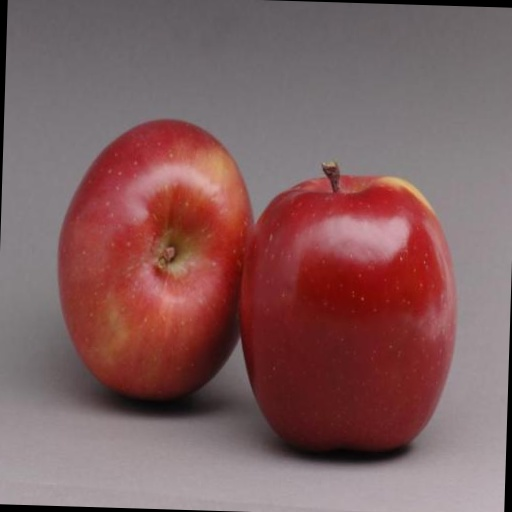fruit: (103, 89, 386, 405), (412, 160, 493, 512)
